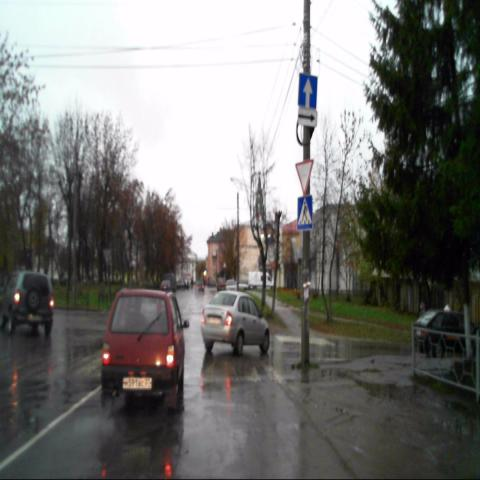5_5: (298, 74, 318, 112)
8_3_1: (297, 107, 317, 126)
